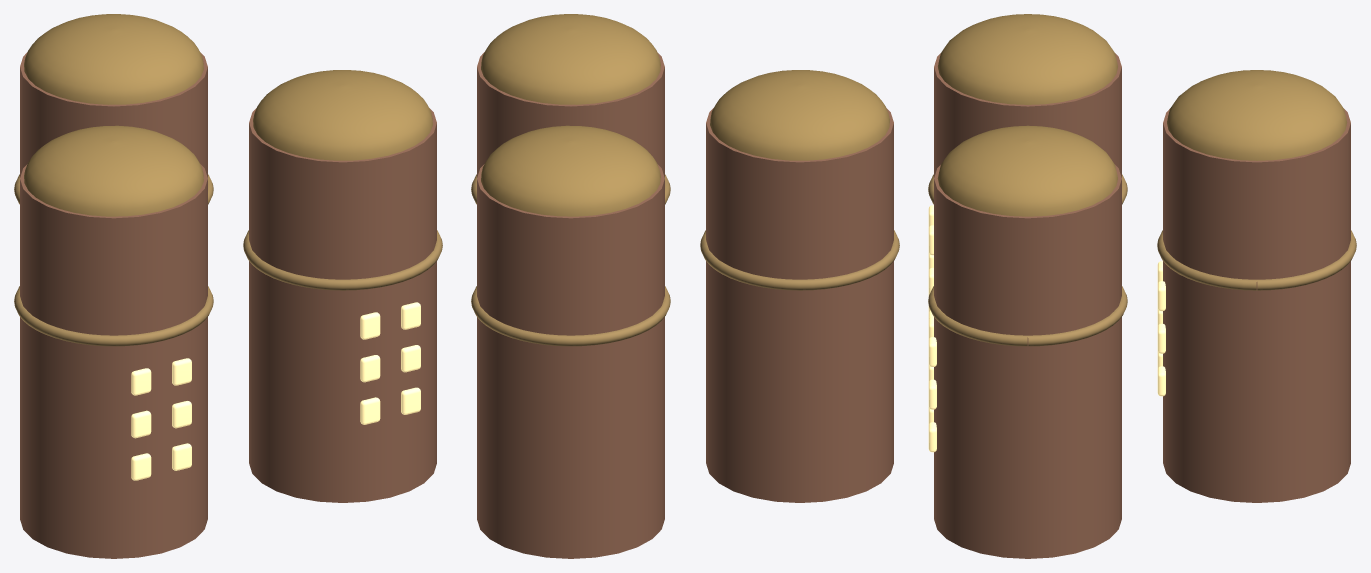
3 renders of one model, left to right at view 1: azimuth 30°, elevation 25°; view 2: azimuth 150°, elevation 25°; view 3: azimuth 270°, elevation 25°, orthographic.
Parts seen in each view (by area): view 1: Cylindrical tower.001, Cylindrical tower.002, Tower crown.001, Tower crown.002, Tower crown, Cylindrical tower, Tower seam.001, Tower seam.002; view 2: Cylindrical tower, Cylindrical tower.001, Tower crown, Tower crown.002, Tower crown.001, Cylindrical tower.002, Tower seam, Tower seam.001; view 3: Cylindrical tower.002, Cylindrical tower, Tower crown, Tower crown.001, Tower crown.002, Cylindrical tower.001, Tower seam, Tower seam.002.
Boxes of the visible parts, box(x1,y1,x2,y2) form: Cylindrical tower.001: box(20, 164, 207, 558); Cylindrical tower.002: box(249, 108, 436, 502); Tower crown.001: box(24, 125, 203, 216); Tower crown.002: box(253, 70, 432, 160); Tower crown: box(24, 14, 203, 104); Cylindrical tower: box(20, 52, 207, 177); Tower seam.001: box(14, 286, 213, 346); Tower seam.002: box(243, 230, 442, 290); Cylindrical tower: box(477, 164, 664, 558); Cylindrical tower.001: box(706, 108, 893, 502); Tower crown: box(481, 125, 660, 216); Tower crown.002: box(481, 14, 660, 104); Tower crown.001: box(710, 70, 889, 160); Cylindrical tower.002: box(477, 52, 664, 177); Tower seam: box(471, 286, 670, 346); Tower seam.001: box(700, 230, 899, 290); Cylindrical tower.002: box(934, 165, 1121, 558); Cylindrical tower: box(1163, 109, 1350, 502); Tower crown: box(1167, 70, 1347, 160); Tower crown.001: box(938, 14, 1117, 104); Tower crown.002: box(937, 125, 1117, 216); Cylindrical tower.001: box(934, 53, 1121, 177); Tower seam: box(1157, 230, 1356, 290); Tower seam.002: box(928, 286, 1127, 346).
Size of the model in its own units: 1.98 by 1.77 by 1.82.
